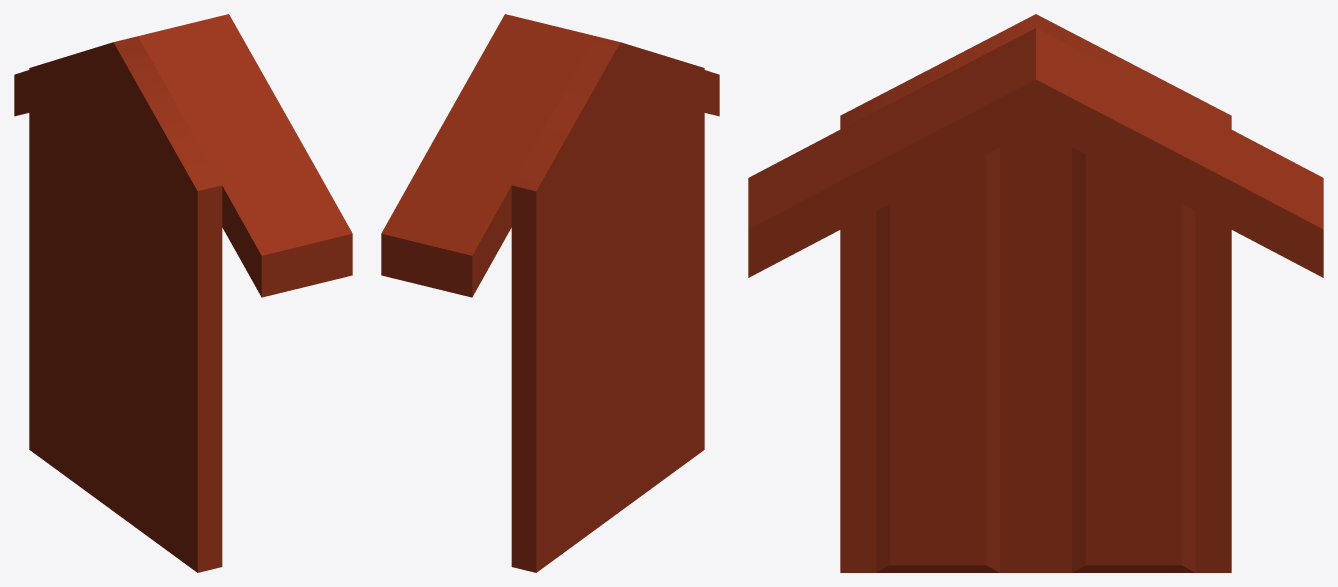
File: Door.FBX
3 renders of one model, left to right at view 1: azimuth 30°, elevation 25°; view 2: azimuth 150°, elevation 25°; view 3: azimuth 270°, elevation 25°, orthographic. The views are drawn at different scales.
Visible parts, largest first — view 1: Box029; view 2: Box029; view 3: Box029.
Part boxes in pixels (x1=…): Box029: x1=14, y1=14, x2=352, y2=572; Box029: x1=381, y1=14, x2=719, y2=572; Box029: x1=748, y1=14, x2=1323, y2=572.
Size of the model in its own units: 23.49 by 91.16 by 87.15.
